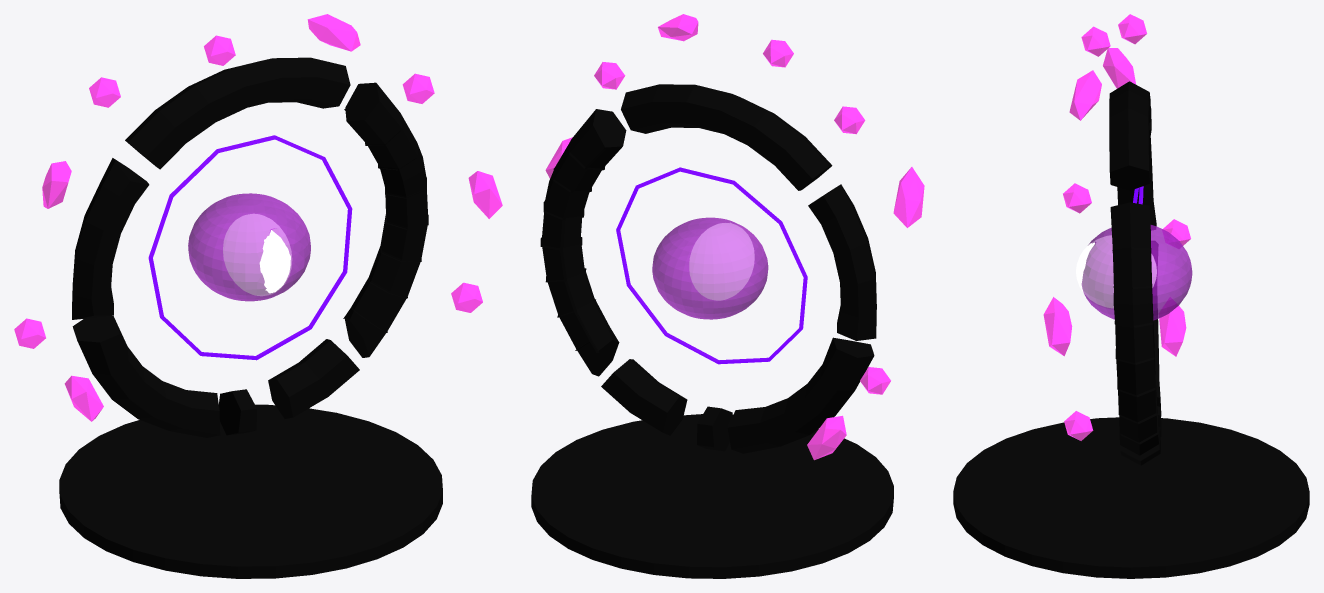
File: Guardian_vacio.glb
3 renders of one model, left to right at view 1: azimuth 30°, elevation 25°; view 2: azimuth 150°, elevation 25°; view 3: azimuth 270°, elevation 25°, orthographic. The views are drawn at different scales.
Parts seen in each view (by area): view 1: Circle, Torus, Sphere, Icosphere, Sphere.001, Torus.001; view 2: Circle, Torus, Sphere, Icosphere, Sphere.001, Torus.001; view 3: Circle, Torus, Icosphere, Sphere, Sphere.001.
Boxes of the visible parts, x1,y1,x2,y2 form: Circle: (59,404,442,578); Torus: (72,57,428,437); Sphere: (188,193,310,301); Icosphere: (14,14,502,421); Sphere.001: (223,214,291,295); Torus.001: (148,135,352,360); Circle: (531,414,893,578); Torus: (540,84,876,453); Sphere: (652,217,768,319); Icosphere: (545,14,924,460); Sphere.001: (689,223,754,300); Torus.001: (616,167,807,364); Circle: (953,417,1309,578); Torus: (1109,81,1161,465); Icosphere: (1043,14,1190,440); Sphere: (1081,225,1192,320); Sphere.001: (1076,235,1156,307).
Bounding box in the file's own units: 4.8 × 5.26 × 3.76.
